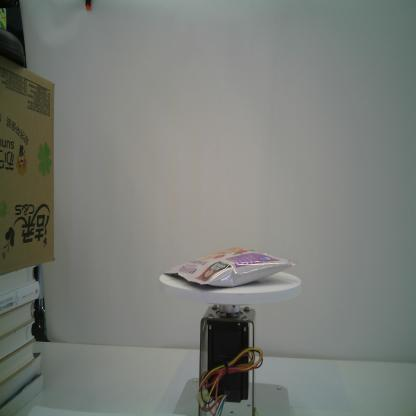Instant Drink: (162, 246, 297, 288)
